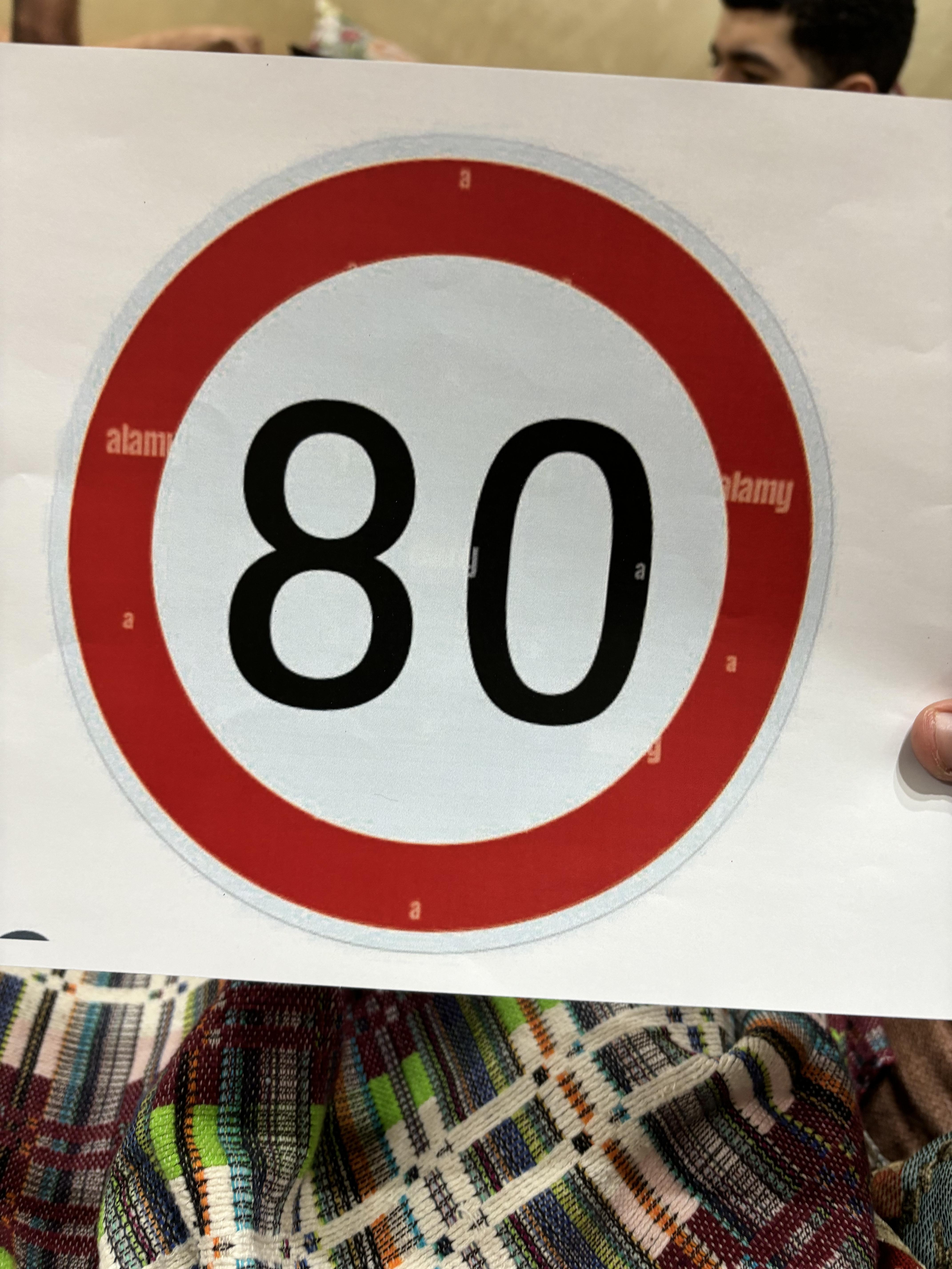80-Speed: (45, 127, 845, 965)
